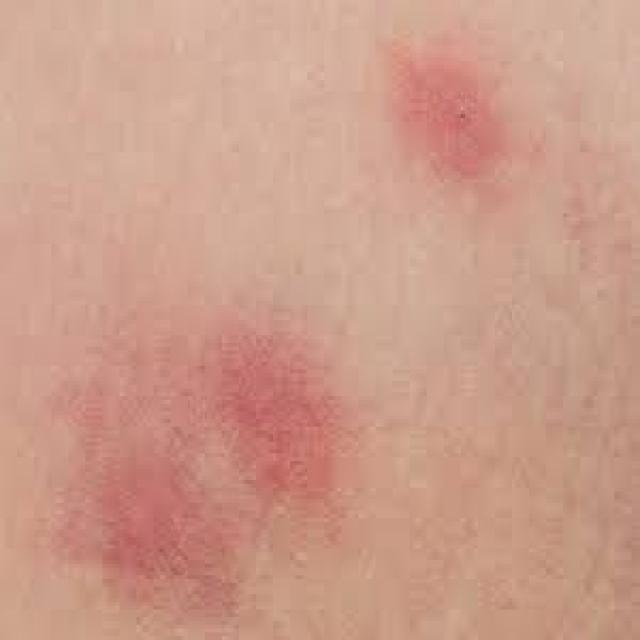kan emici bocekler: (180, 295, 356, 524), (386, 41, 545, 208), (101, 441, 240, 622)
